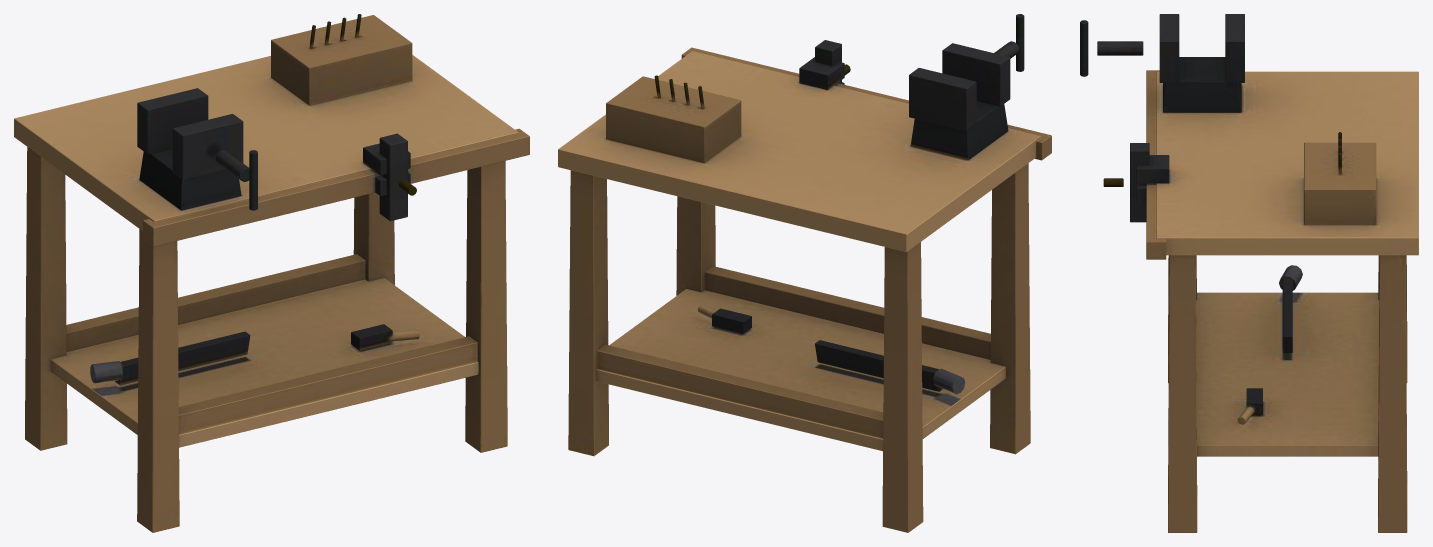
Rendered from DD_workbench1.glb.
The picture shows the model from 3 angles, left to right: view 1: azimuth 30°, elevation 25°; view 2: azimuth 150°, elevation 25°; view 3: azimuth 270°, elevation 25°; orthographic projection. The views are drawn at different scales.
Visible parts, largest first — view 1: DD_workbench1; view 2: DD_workbench1; view 3: DD_workbench1.
Boxes of the visible parts, x1,y1,x2,y2 form: DD_workbench1: [14, 14, 529, 532]; DD_workbench1: [558, 14, 1051, 532]; DD_workbench1: [1080, 14, 1418, 532].
Bounding box in the file's own units: 1.24 × 1.26 × 1.03.
Materials: 1 (1 with a texture image).
